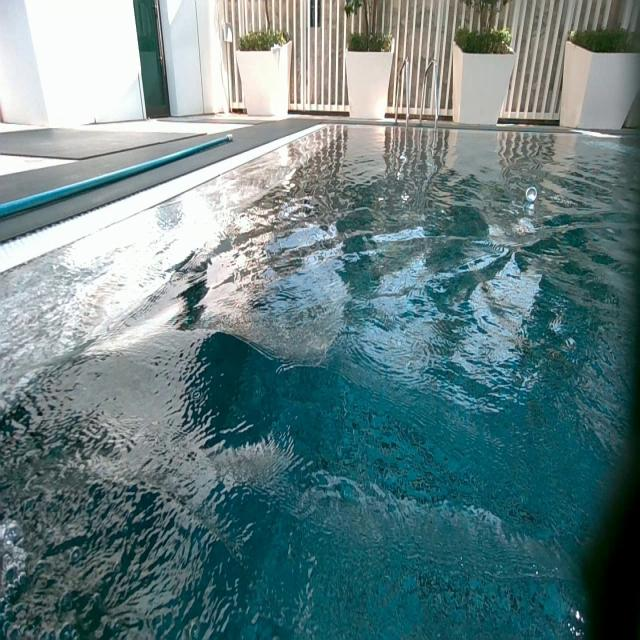Cans: (525, 186, 537, 200)
